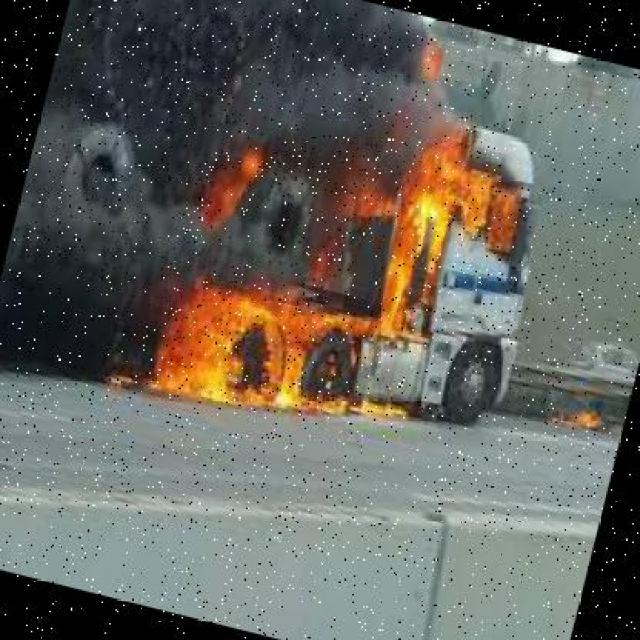fire: (140, 68, 512, 469)
